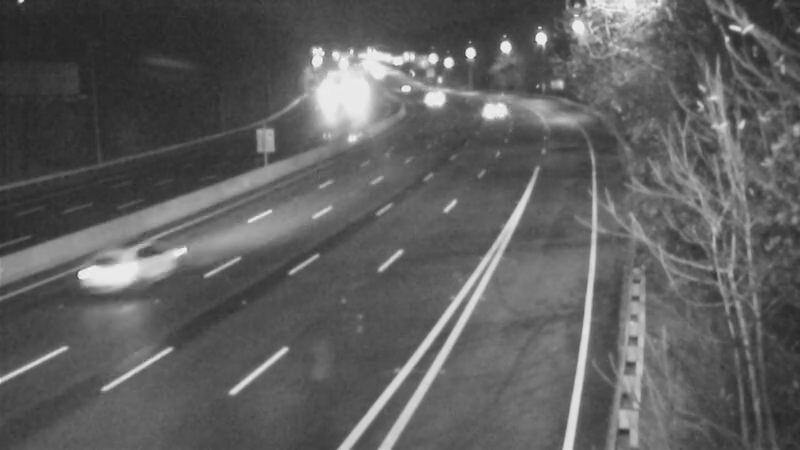vehicle: (76, 231, 156, 311), (377, 61, 427, 111), (402, 70, 452, 120), (464, 81, 514, 131)
